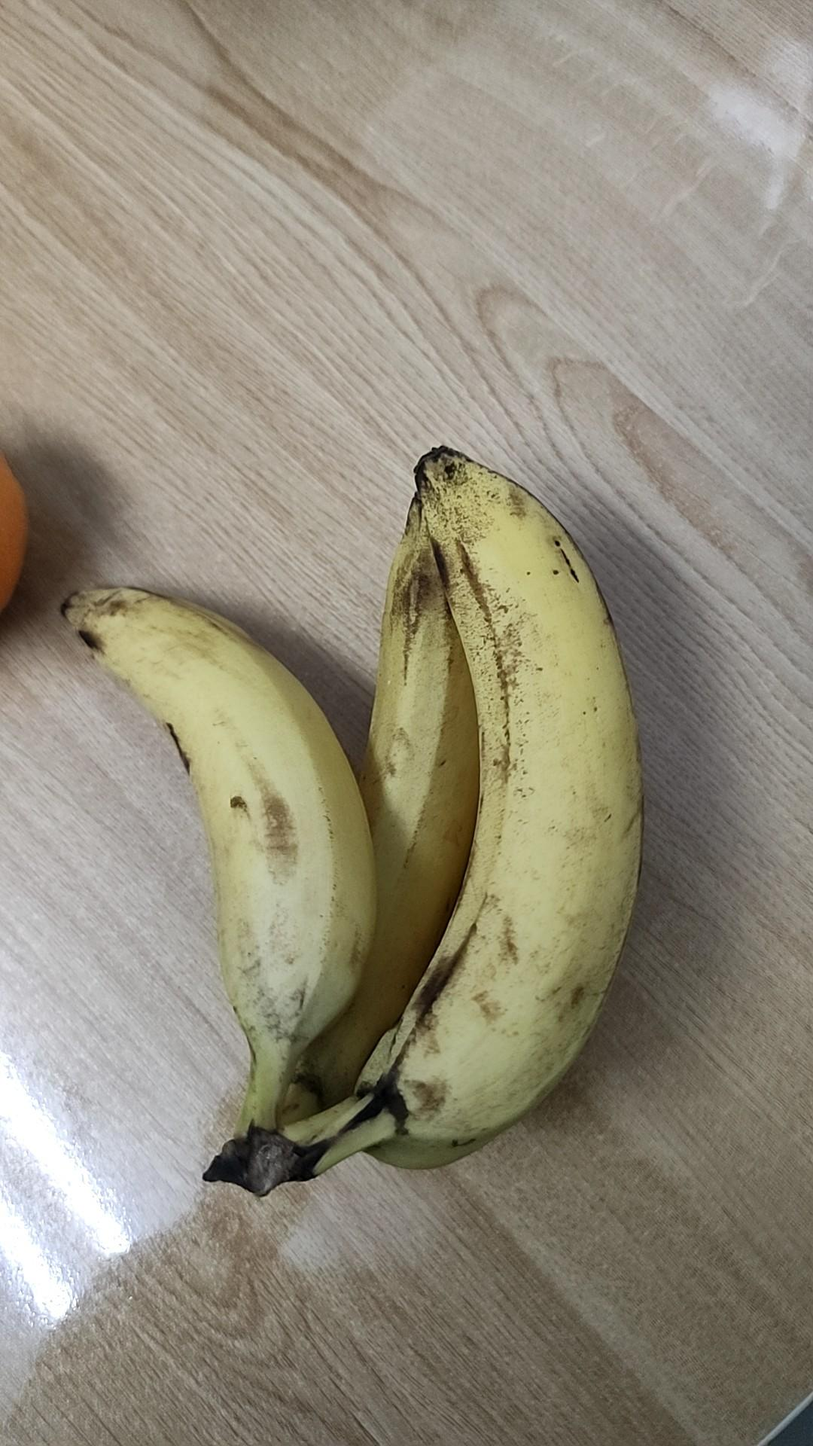fruit: (64, 447, 643, 1195)
